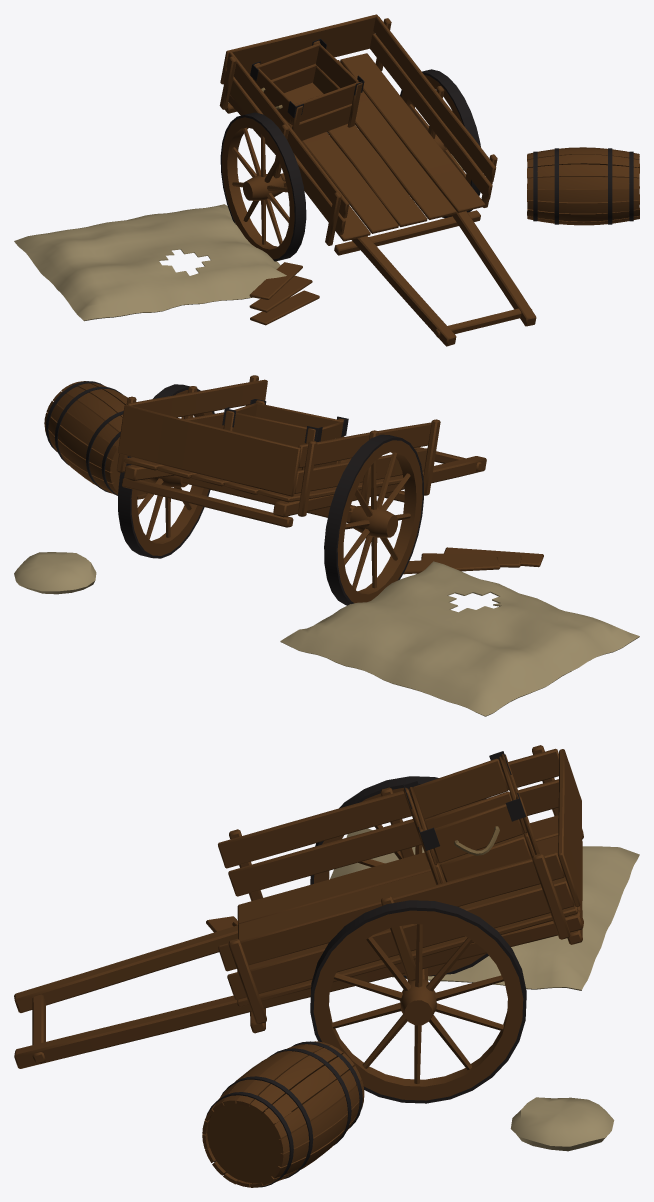
File: versorgungswagen_kaputt.glb
3 renders of one model, top to bottom at view 1: azimuth 30°, elevation 25°; view 2: azimuth 150°, elevation 25°; view 3: azimuth 270°, elevation 25°, orthographic. The views are drawn at different scales.
Visible parts, largest first — view 1: versorgungswagen_kaputt; view 2: versorgungswagen_kaputt; view 3: versorgungswagen_kaputt.
Boxes of the visible parts, <box> form: versorgungswagen_kaputt: <box>14,14,639,346</box>; versorgungswagen_kaputt: <box>14,375,639,716</box>; versorgungswagen_kaputt: <box>14,745,639,1187</box>.
Size of the model in its own units: 3.74 by 1.14 by 2.64.
